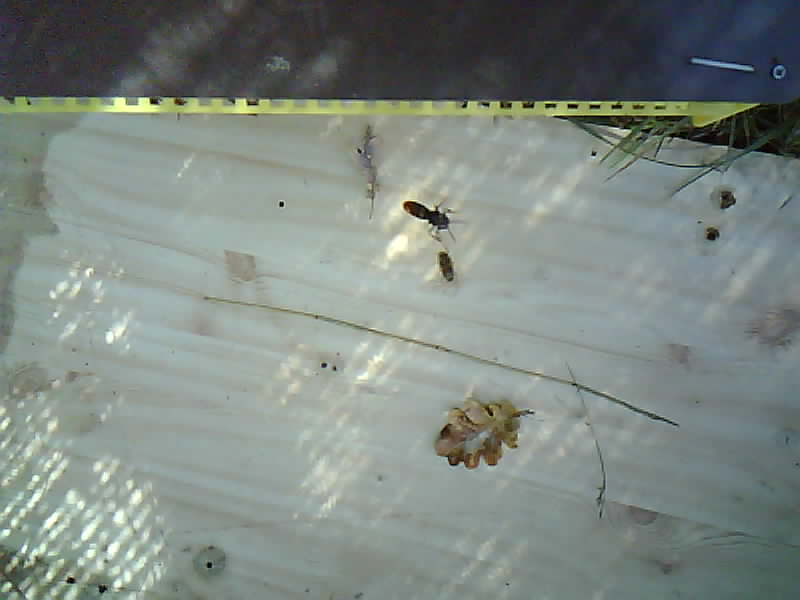bee: (436, 250, 457, 283)
hornet: (401, 200, 451, 232)
